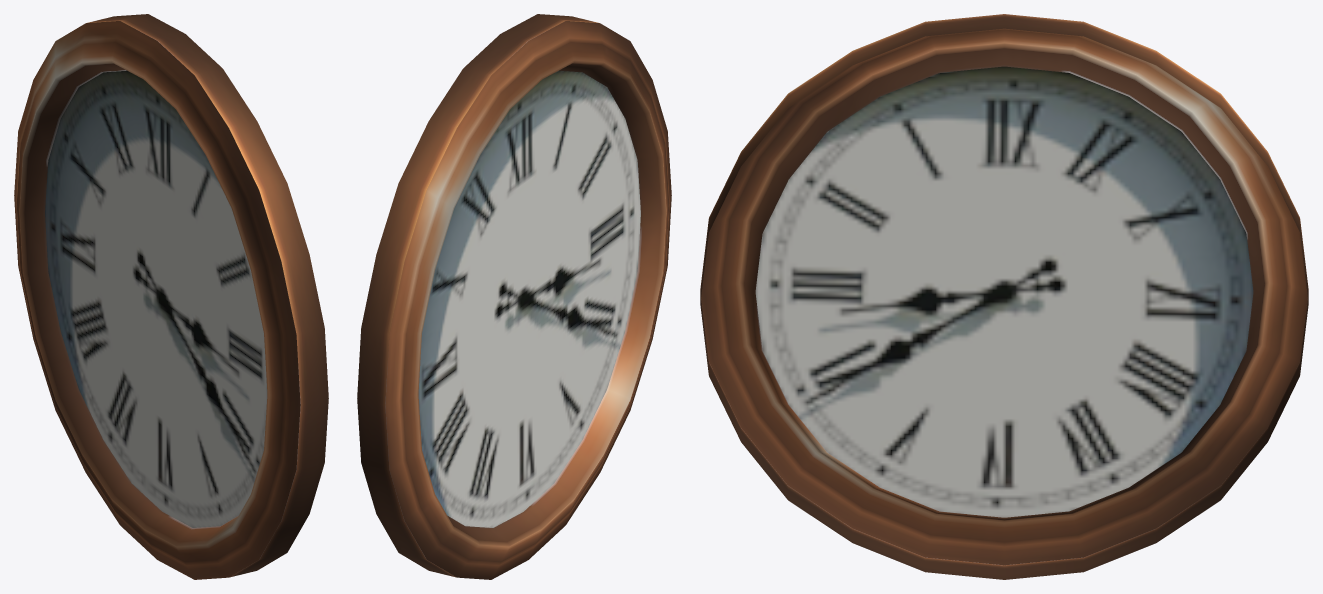
Rendered from FaYuanWai_01_ZhongBiao_01.FBX.
The picture shows the model from 3 angles, left to right: view 1: azimuth 30°, elevation 25°; view 2: azimuth 150°, elevation 25°; view 3: azimuth 270°, elevation 25°; orthographic projection. The views are drawn at different scales.
Parts seen in each view (by area): view 1: SiZheBingFang_guazhong_01; view 2: SiZheBingFang_guazhong_01; view 3: SiZheBingFang_guazhong_01.
Boxes of the visible parts, x1,y1,x2,y2 form: SiZheBingFang_guazhong_01: [14, 14, 328, 579]; SiZheBingFang_guazhong_01: [357, 14, 671, 579]; SiZheBingFang_guazhong_01: [700, 14, 1308, 579].
Size of the model in its own units: 4.19 by 49.55 by 49.55.
Materials: 1 (1 with a texture image).
